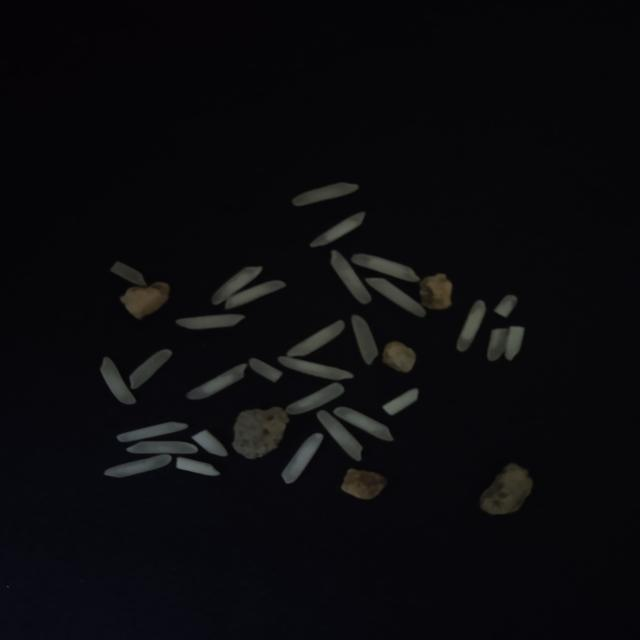Broken: (287, 383, 346, 414), (116, 422, 189, 442), (382, 387, 421, 415), (191, 429, 229, 456), (110, 260, 148, 286), (248, 357, 283, 382), (176, 457, 222, 476), (487, 328, 509, 362), (505, 326, 525, 360), (494, 294, 518, 318)
Full: (364, 278, 426, 319), (316, 410, 364, 462), (332, 249, 374, 305), (286, 320, 347, 358), (280, 432, 324, 484), (186, 364, 247, 401), (333, 407, 395, 442), (308, 212, 366, 247), (350, 253, 420, 282), (212, 266, 264, 305), (224, 279, 288, 309), (278, 356, 355, 380), (99, 356, 137, 404), (129, 348, 173, 388), (104, 454, 172, 478), (291, 182, 359, 206), (456, 300, 486, 352), (352, 314, 379, 366), (175, 314, 246, 329), (125, 441, 199, 454)
